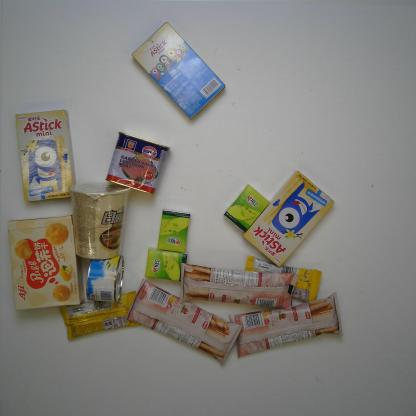Canned Food: (104, 130, 173, 198), (83, 248, 124, 306)
Chocolate: (55, 288, 143, 346), (241, 254, 327, 307)
Dessert: (121, 278, 245, 368), (130, 18, 227, 122), (240, 170, 336, 268), (3, 212, 86, 314), (226, 288, 346, 358), (176, 259, 302, 313), (14, 105, 80, 207)
Instant Noodles: (65, 177, 133, 263)
Tissue: (221, 182, 272, 233), (140, 244, 190, 286), (154, 207, 192, 257)
